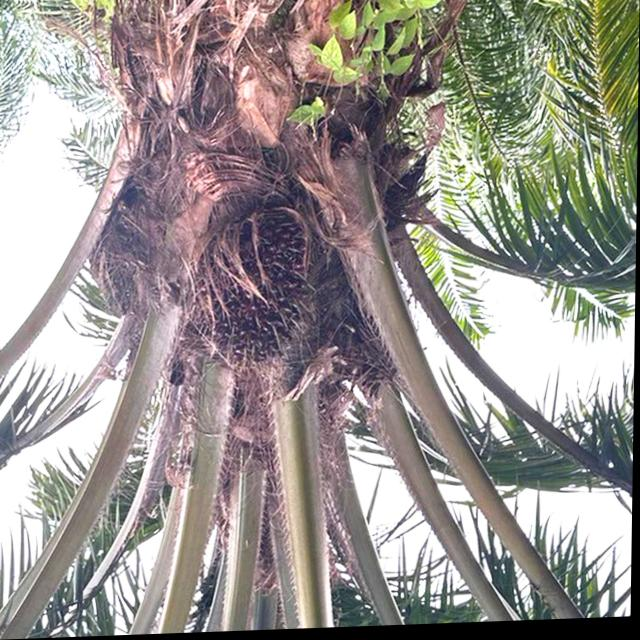ripe: (198, 211, 332, 383)
